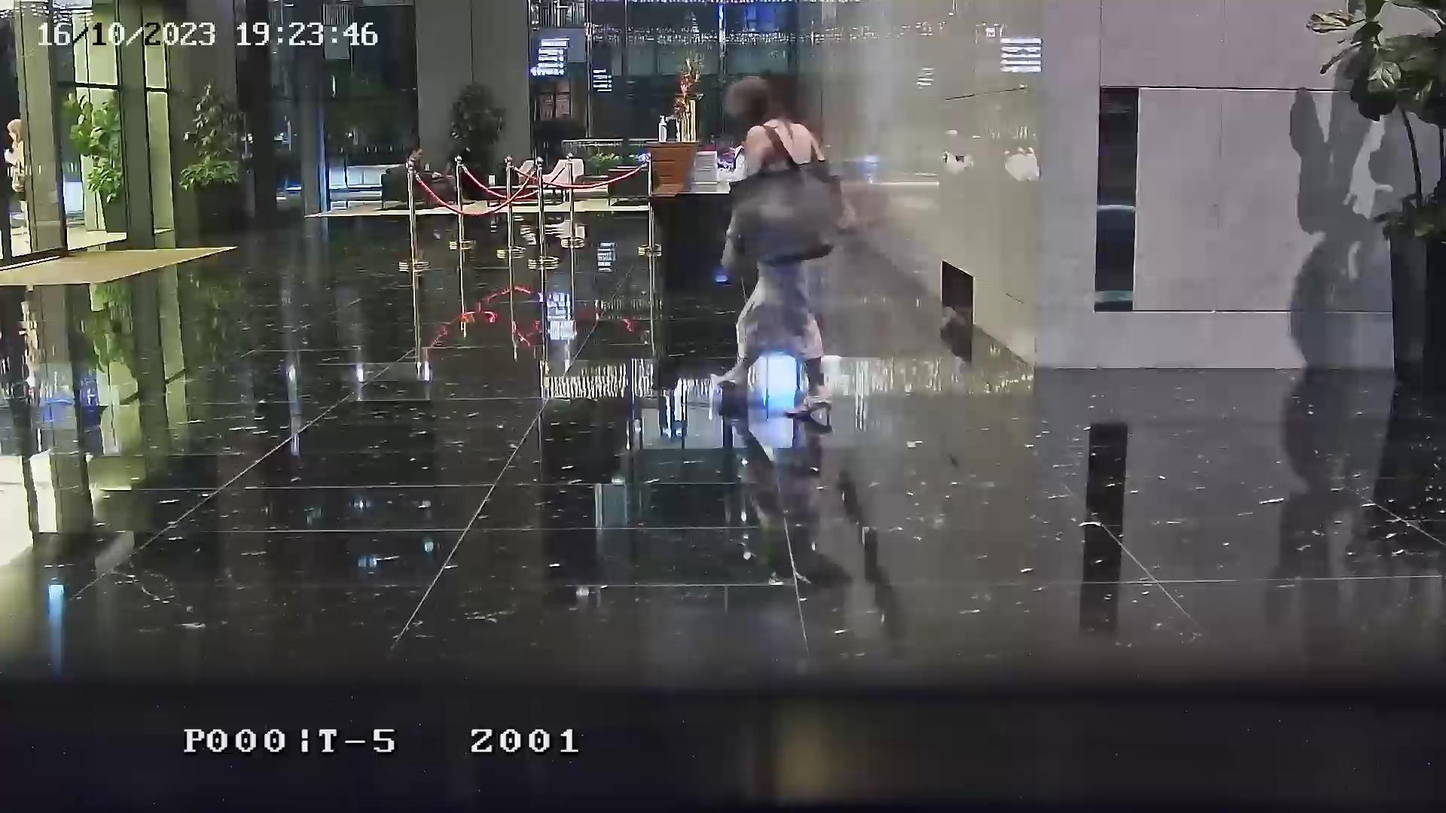person: (712, 75, 839, 425), (406, 146, 476, 205), (5, 118, 30, 245)
